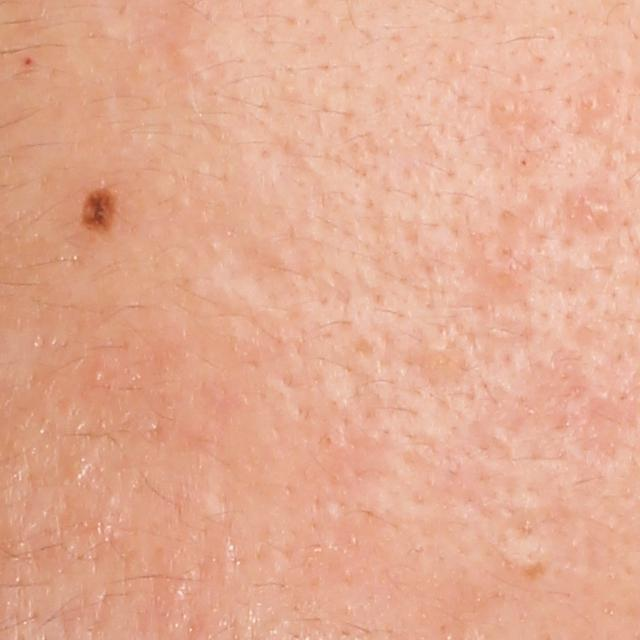comedo: (491, 94, 518, 125), (582, 95, 602, 113), (89, 366, 105, 387)
